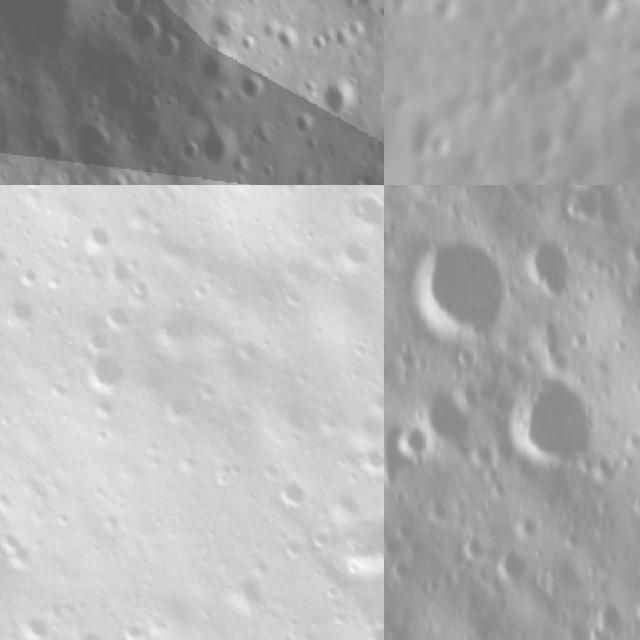crater: (394, 228, 507, 338), (493, 363, 592, 470), (326, 501, 384, 589), (410, 378, 472, 449), (515, 231, 572, 305), (72, 337, 132, 397), (486, 539, 533, 598), (544, 51, 592, 99), (319, 74, 364, 125), (149, 383, 196, 431), (579, 588, 625, 637), (384, 418, 430, 466), (225, 572, 270, 620), (485, 56, 529, 104), (340, 185, 384, 232), (326, 228, 369, 274), (92, 295, 135, 339), (524, 121, 566, 164), (0, 523, 35, 574), (71, 218, 114, 258), (270, 475, 314, 514), (577, 0, 624, 35), (0, 292, 37, 335), (81, 388, 120, 427), (449, 520, 484, 563), (427, 129, 464, 168), (236, 69, 273, 107), (145, 34, 190, 65), (416, 492, 452, 528), (106, 0, 151, 28), (78, 322, 112, 358), (300, 520, 336, 554), (5, 261, 42, 294), (14, 606, 49, 640), (271, 530, 305, 565), (128, 13, 166, 44), (57, 619, 112, 640), (99, 255, 134, 287), (552, 185, 621, 201), (230, 328, 262, 361), (122, 270, 153, 304), (355, 439, 384, 475), (432, 0, 469, 28), (39, 374, 70, 406), (243, 548, 274, 580), (532, 314, 563, 343), (619, 234, 640, 276), (278, 281, 307, 310), (384, 556, 412, 586), (386, 519, 415, 546), (554, 532, 580, 558), (384, 0, 417, 19), (621, 489, 640, 521), (0, 234, 14, 277), (414, 575, 439, 599), (629, 595, 640, 634), (374, 248, 384, 288), (468, 631, 506, 640), (338, 178, 371, 185)
